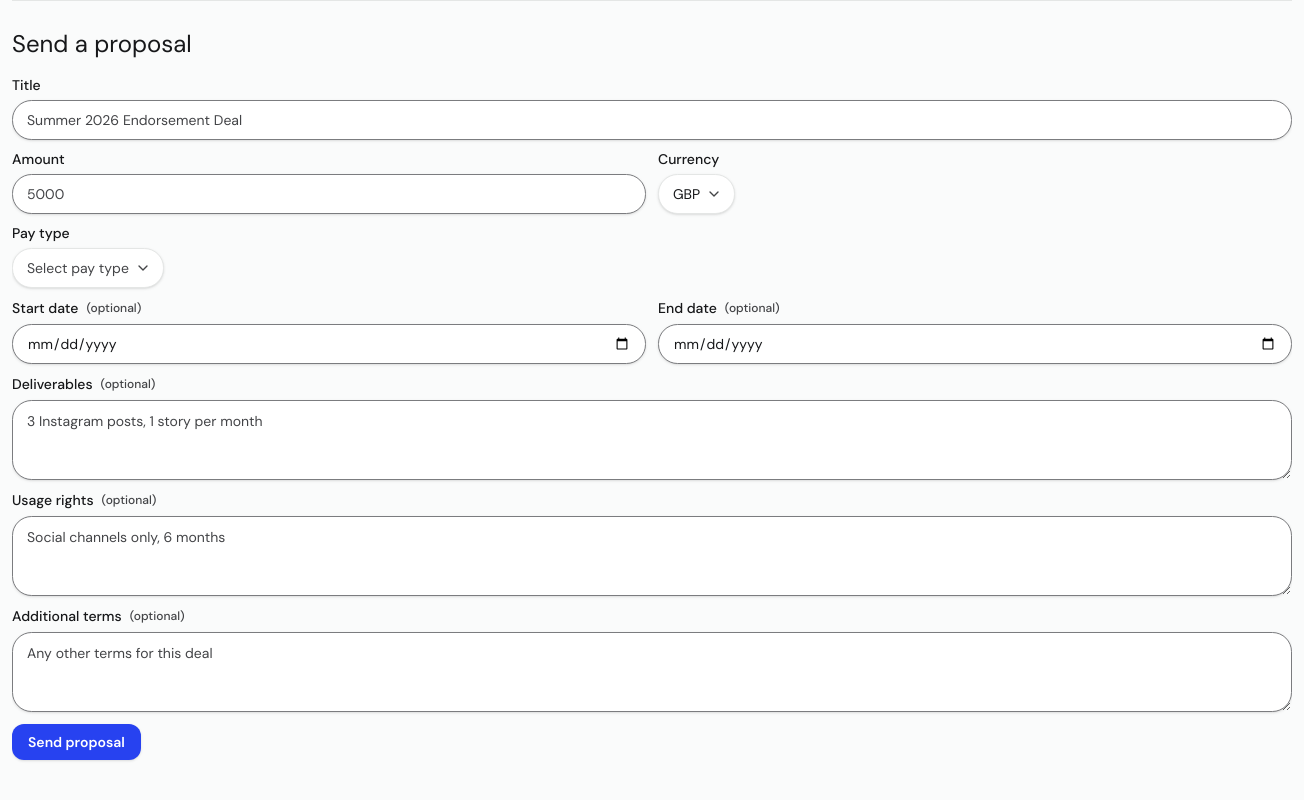
ProposalForm › shows the human label for the selected pay type, not the raw enum
Click the dropdown labelled "Select pay type ▼". click: (88,268)
box: [12,248,164,288]
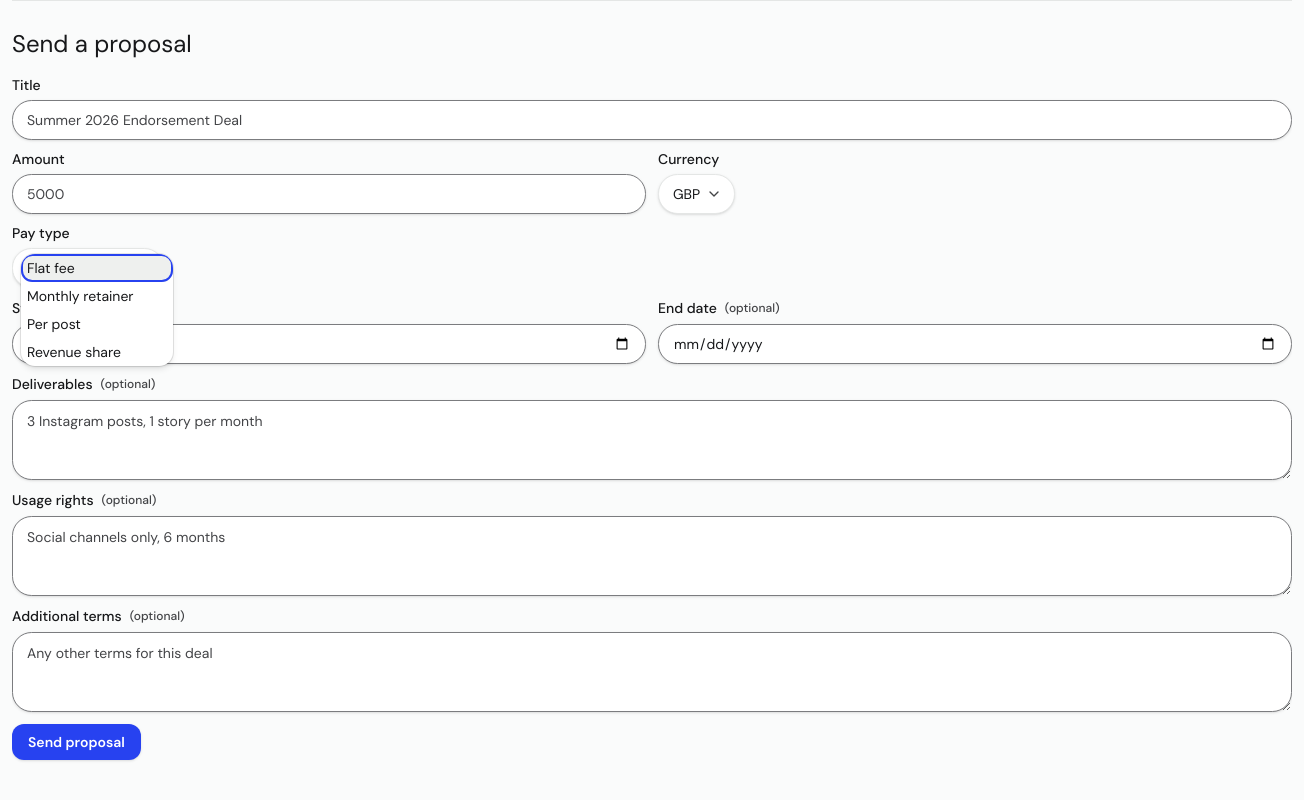
Click the option "Monthly retainer". click: (80,296)
box: [27,287,134,305]
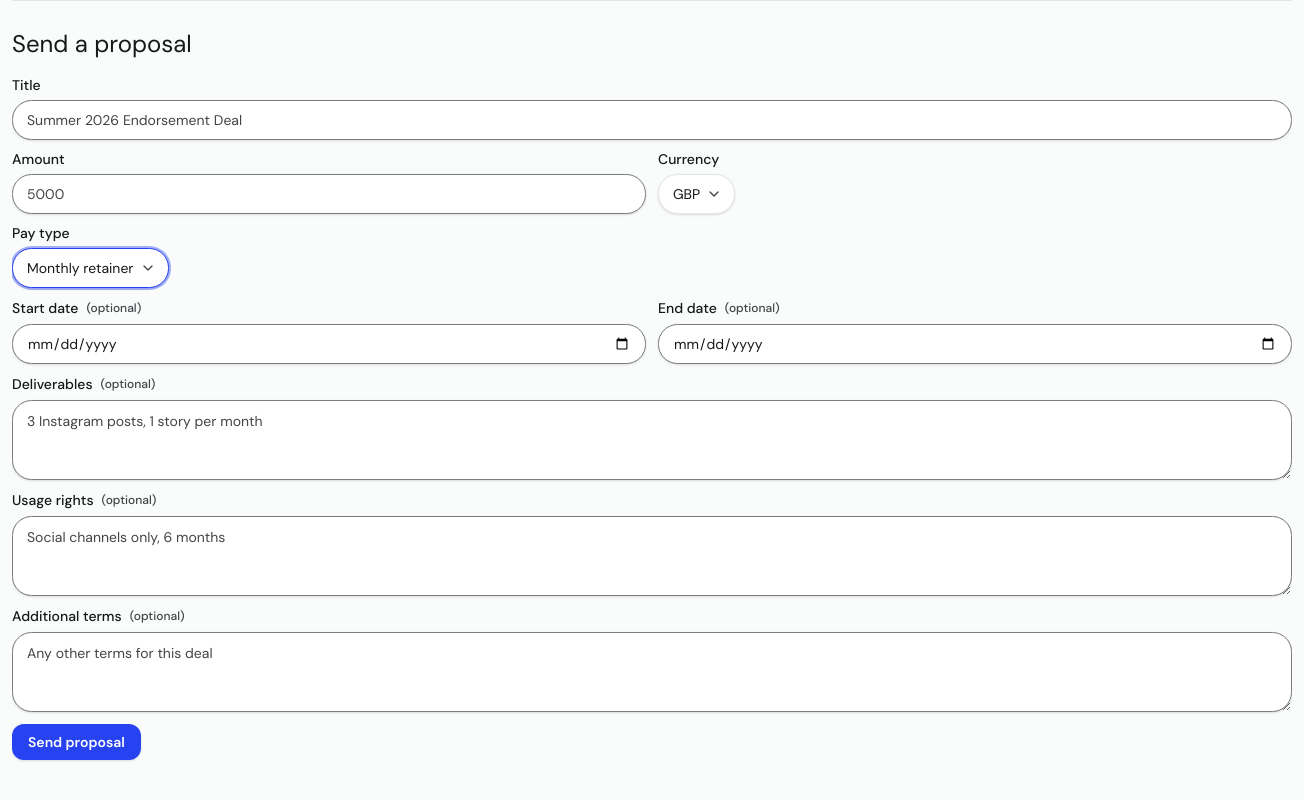
Expected: the dropdown named "pay type" does not show "monthly_retainer", [12,248,168,288]
Result: the dropdown named "pay type" shows "Monthly retainer" at [12,248,168,288]
